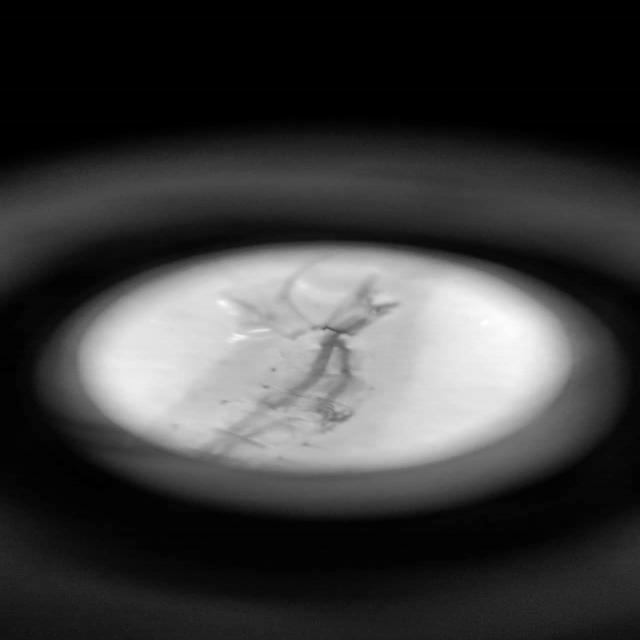larvas: (175, 278, 398, 472)
